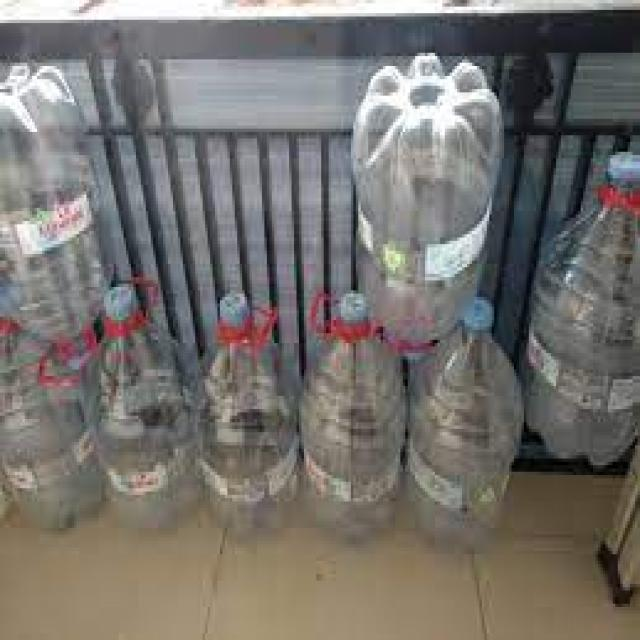Galon: (0, 276, 528, 566), (344, 54, 509, 350), (520, 109, 640, 480), (0, 70, 119, 339)
